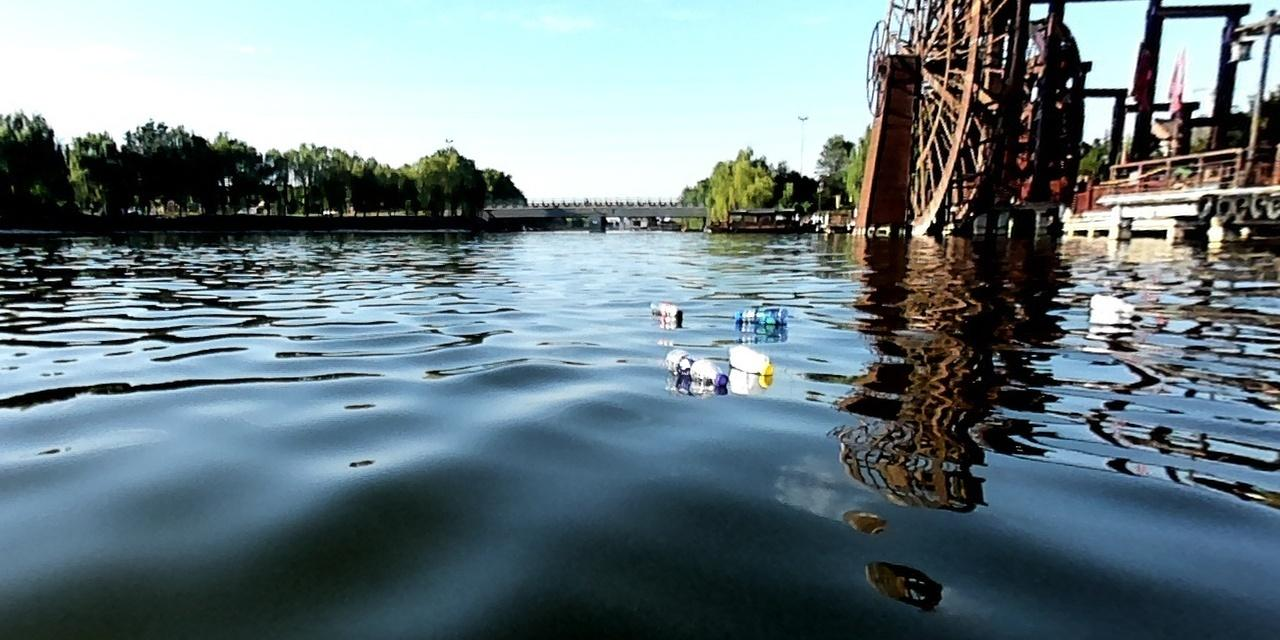bottle: (662, 343, 729, 387), (724, 342, 776, 377), (730, 303, 788, 328), (1088, 290, 1135, 314), (647, 298, 683, 319)
